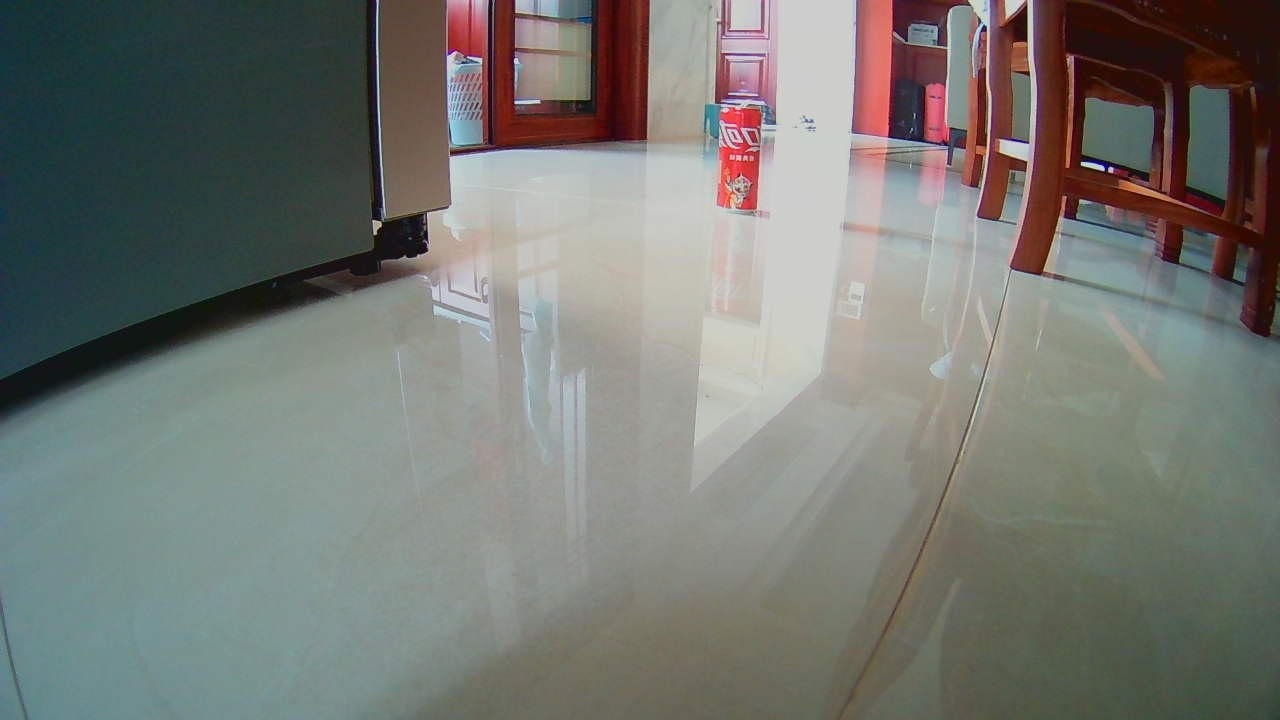cola: (715, 98, 762, 221)
